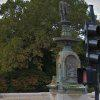Statue: (48, 2, 94, 52)
